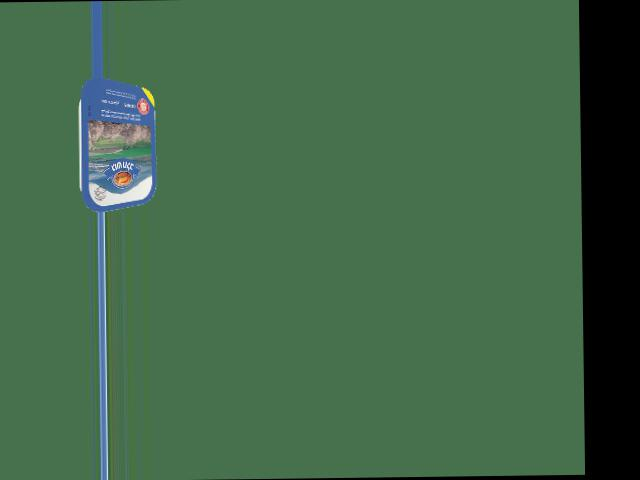cheese: (69, 91, 160, 202)
